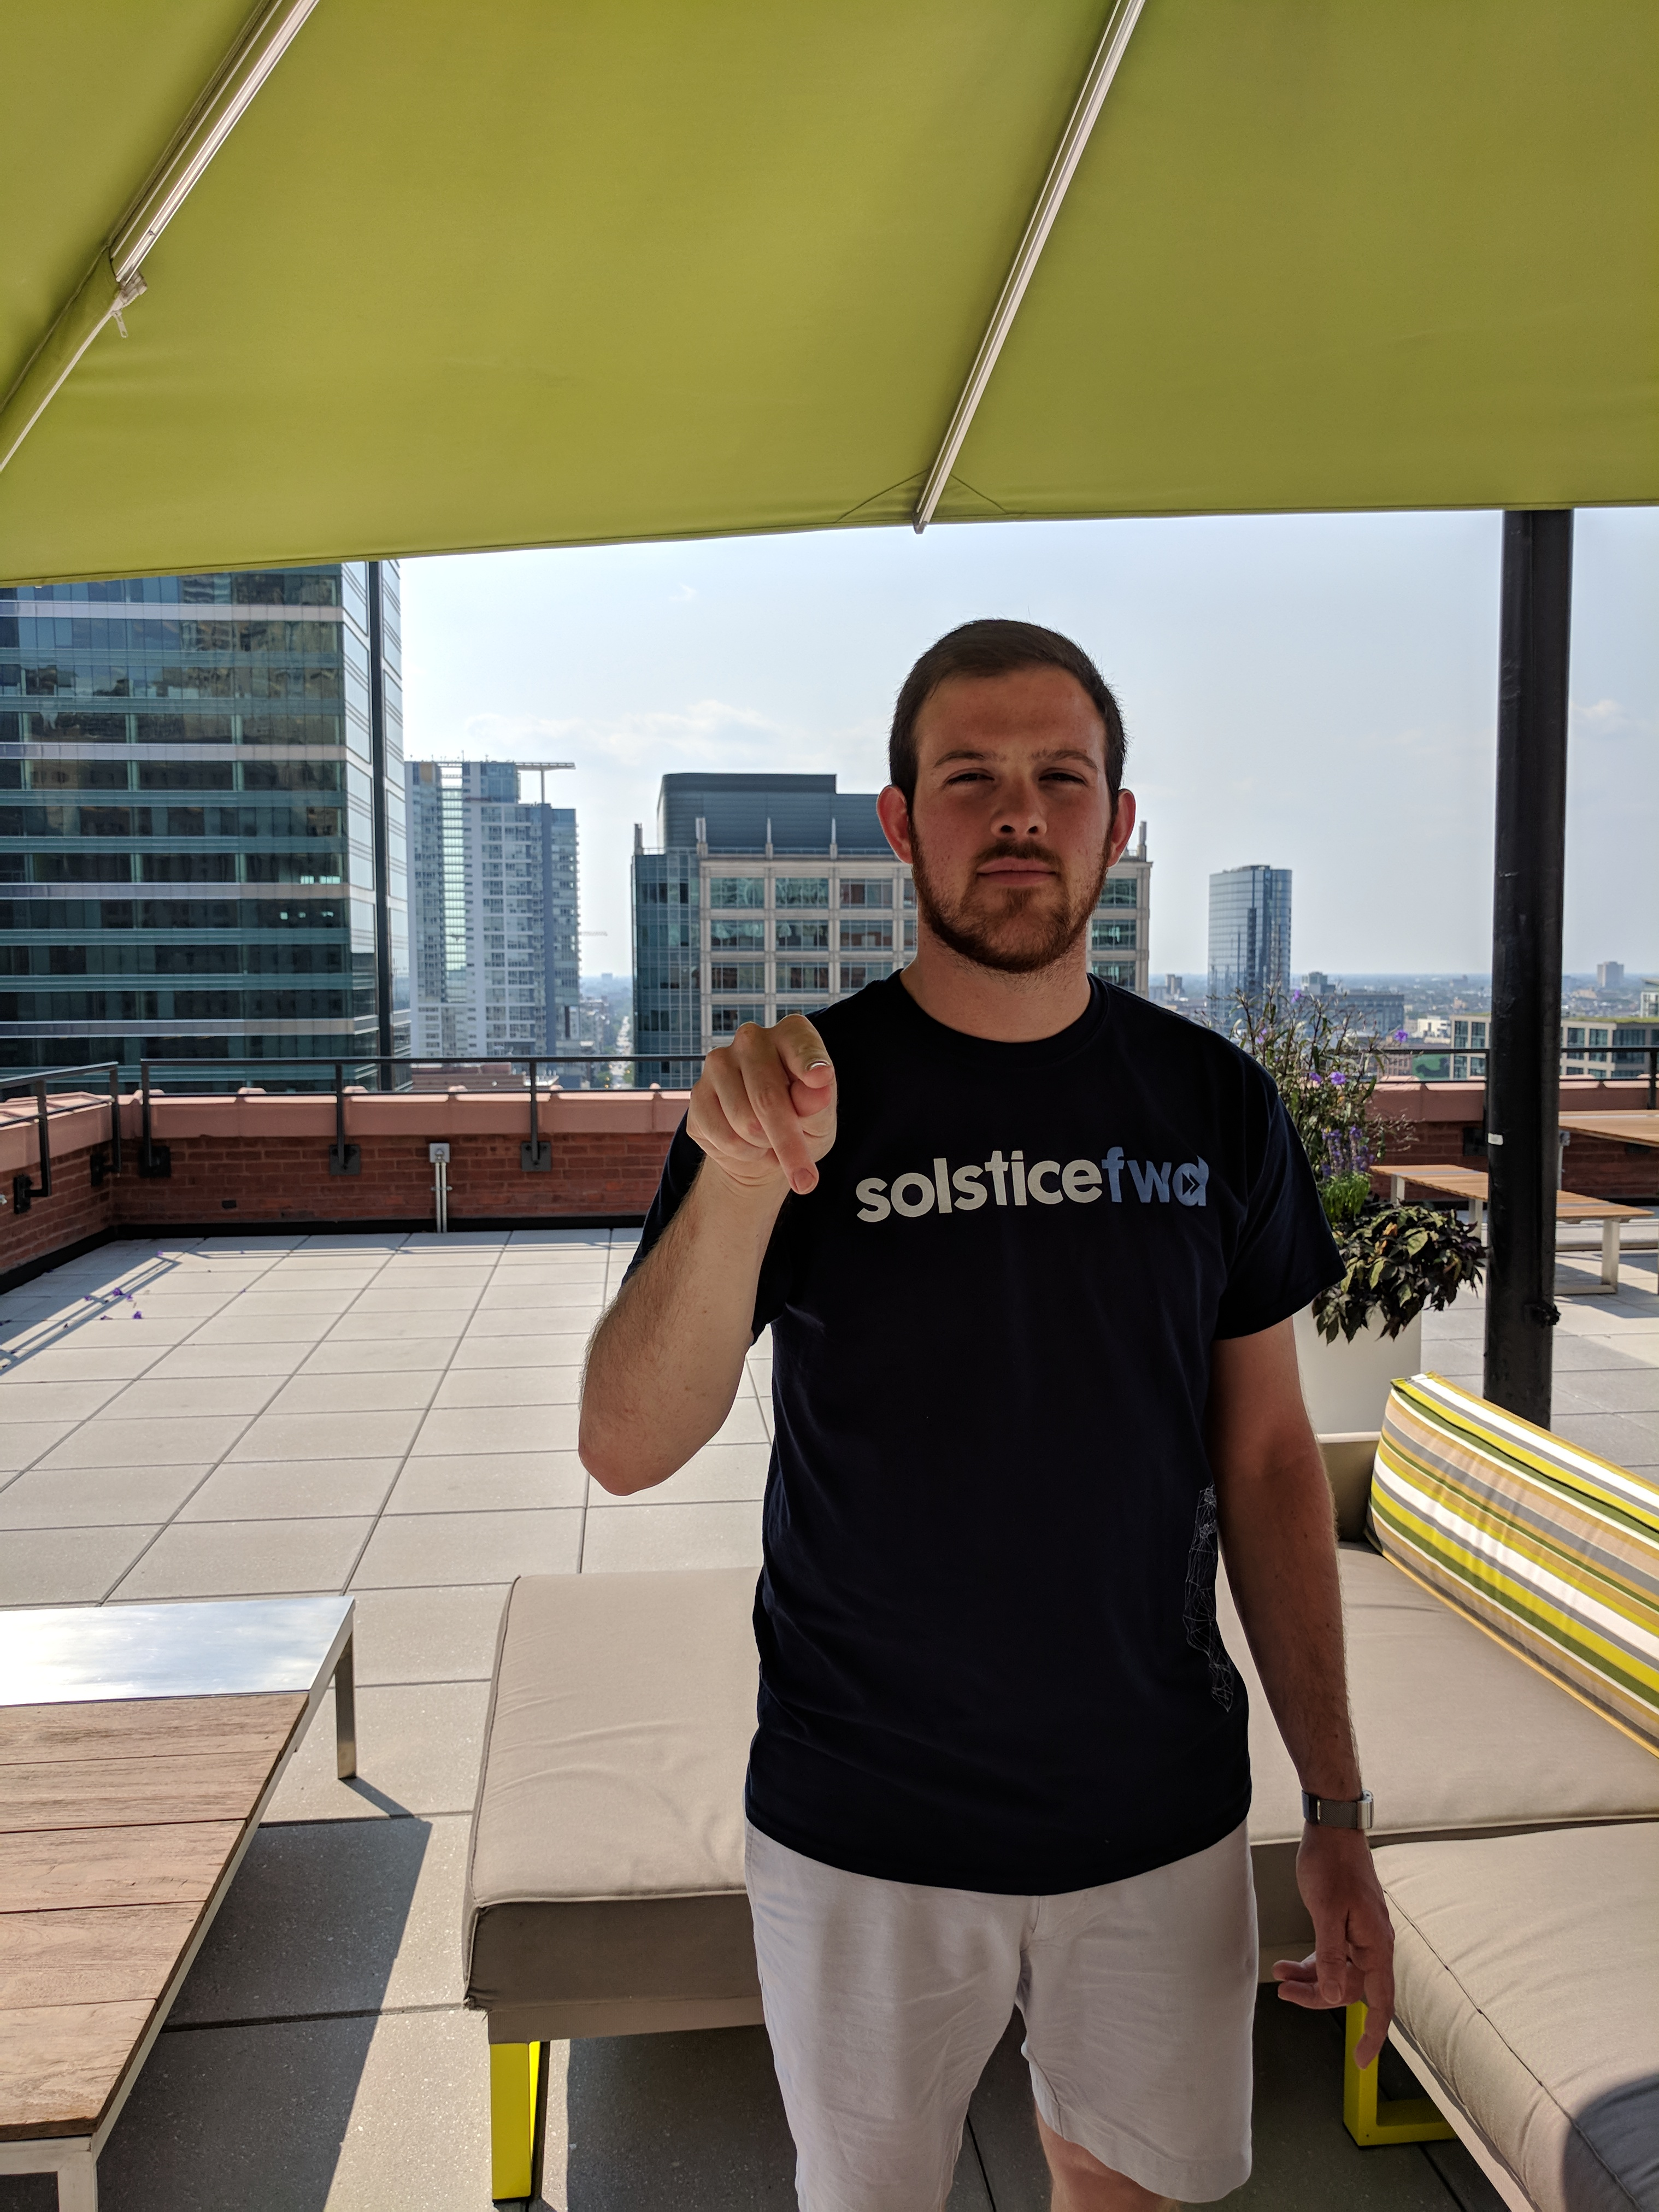p: (678, 1012, 852, 1211)
